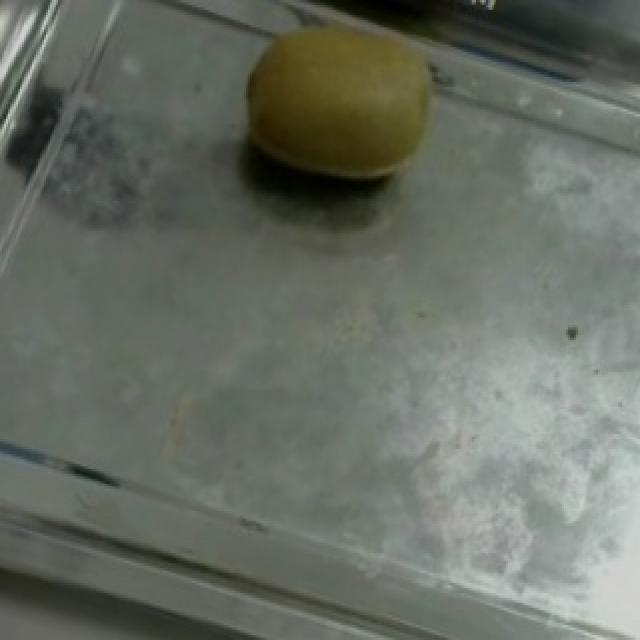Fruit: (208, 0, 468, 226)
